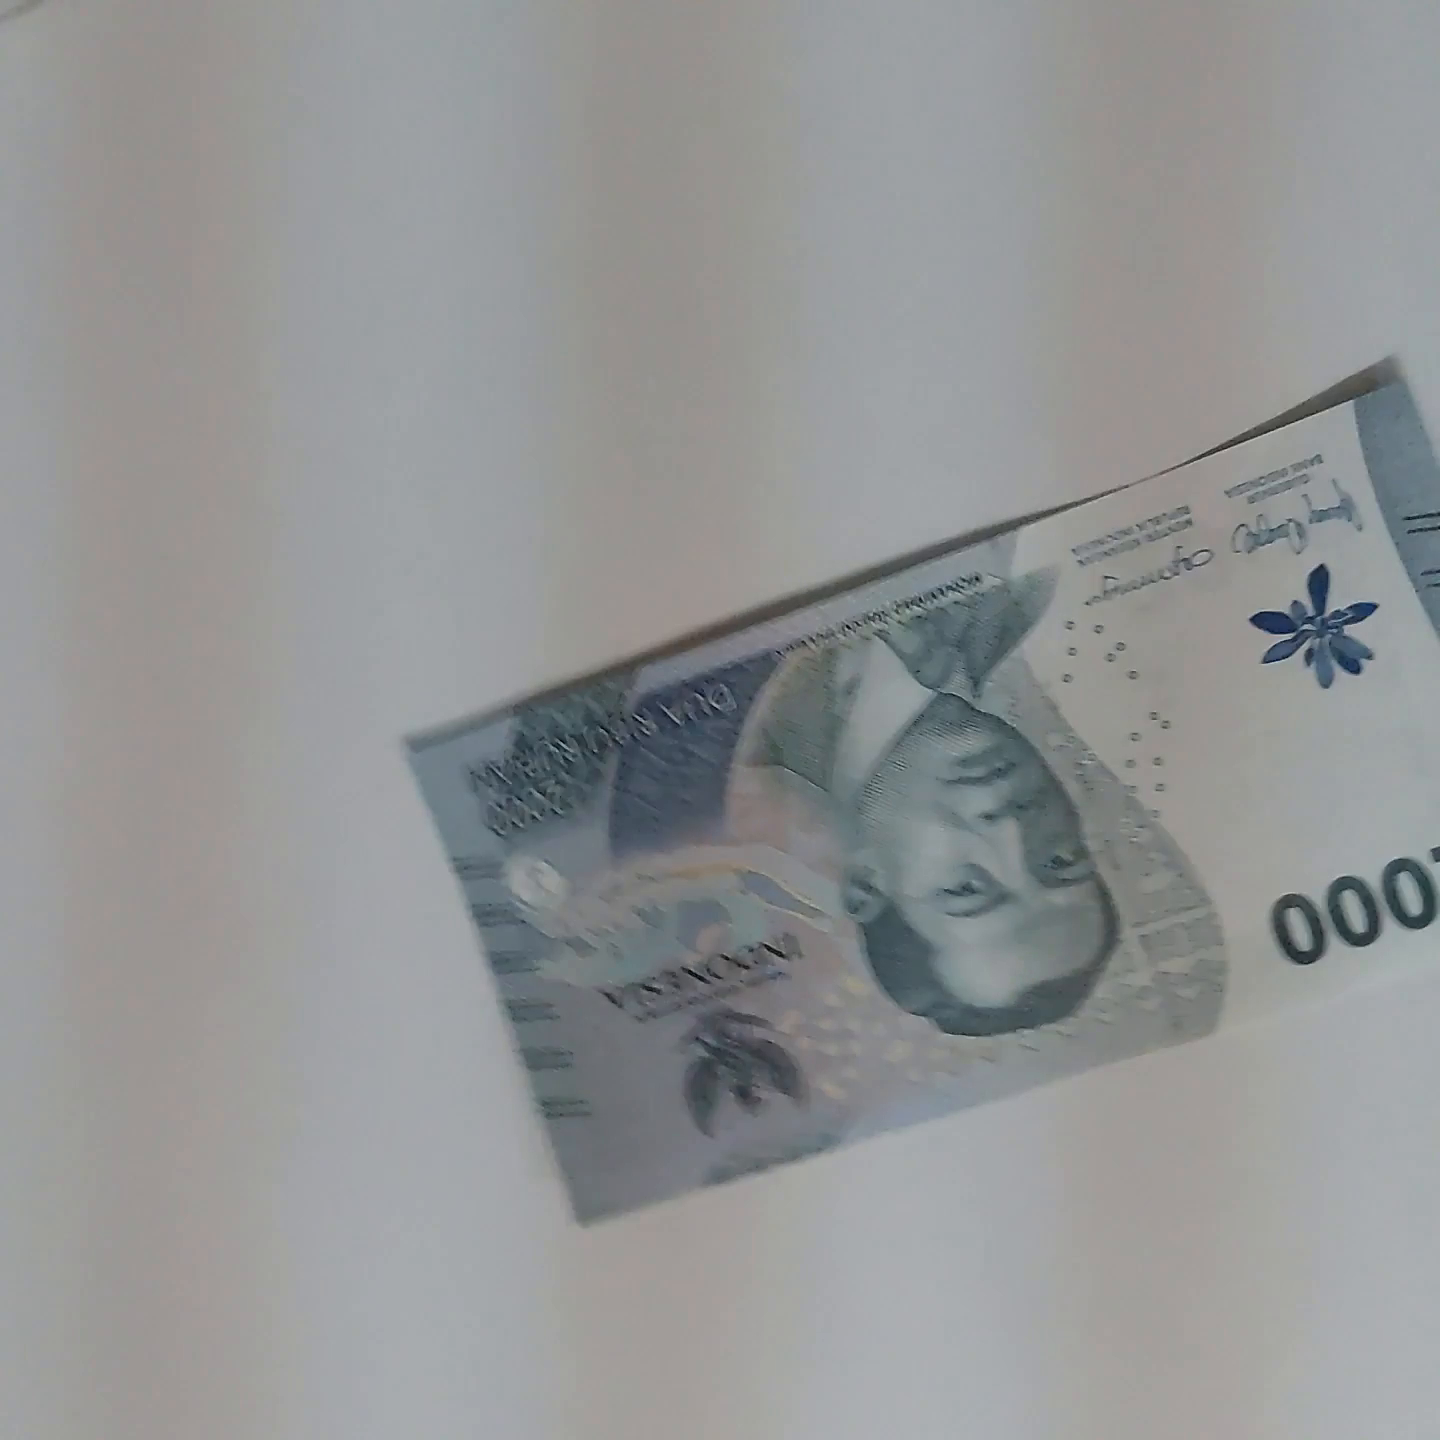2k: (339, 353, 1440, 1255)
